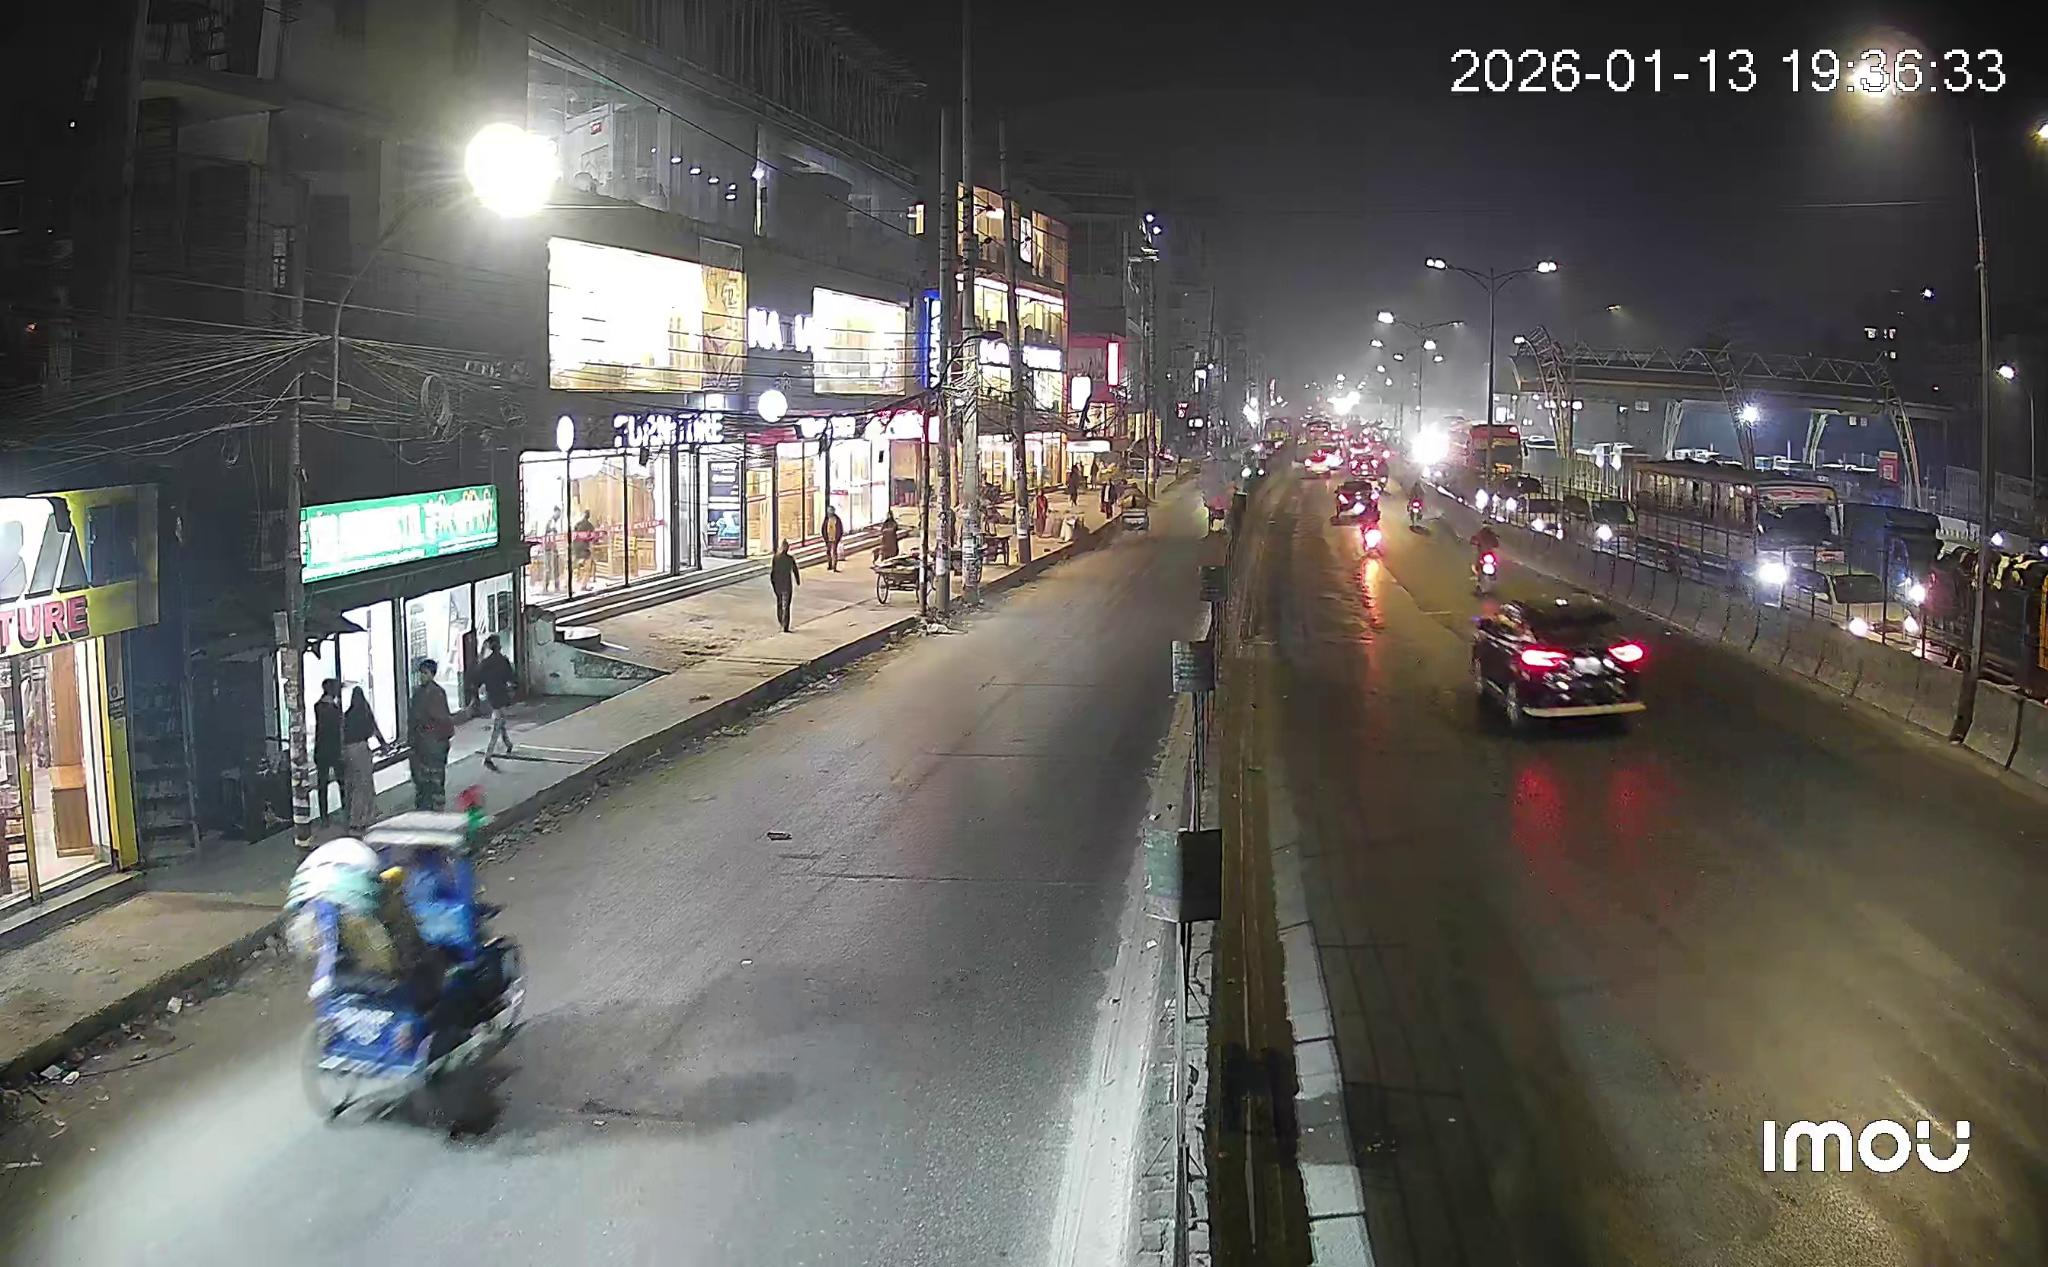Cycle Rickshaw: (284, 812, 527, 1119)
Private-Sedan Car: (1469, 595, 1650, 729)
